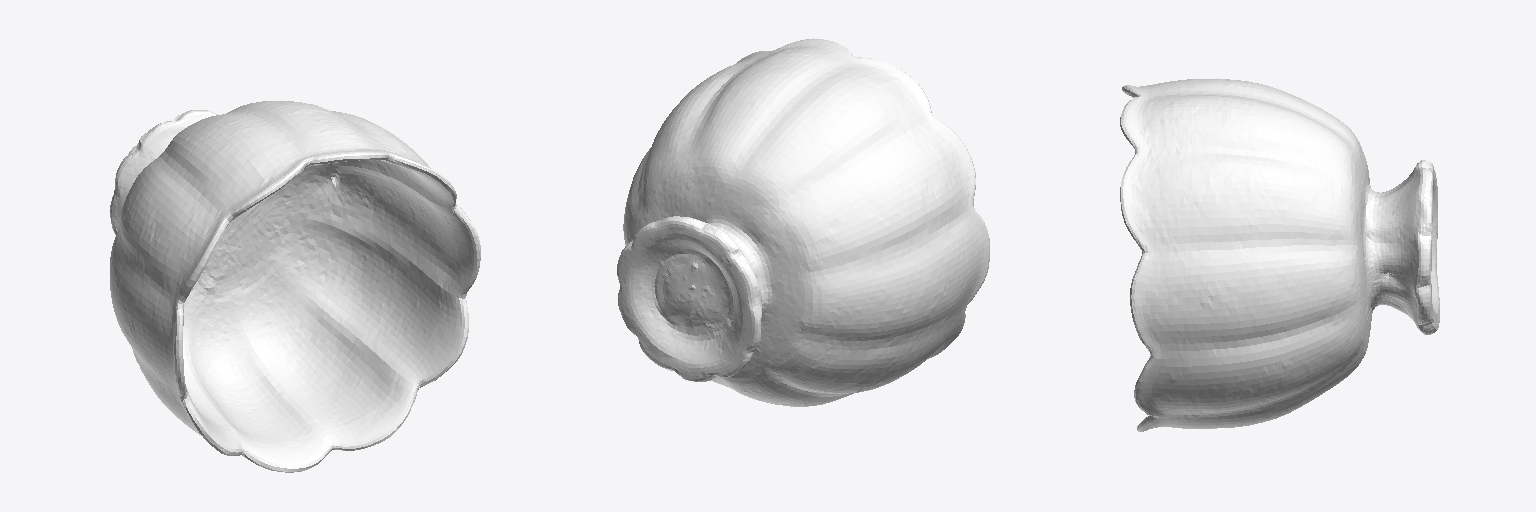
Rendered from ssu015485-002-30000.obj.
The picture shows the model from 3 angles: view 1: azimuth 30°, elevation 25°; view 2: azimuth 150°, elevation 25°; view 3: azimuth 270°, elevation 25°; orthographic projection.
Visible parts, largest first — view 1: ssu015485-002-30000; view 2: ssu015485-002-30000; view 3: ssu015485-002-30000.
Part boxes in pixels (x1,y1,x2,y2): ssu015485-002-30000: (110, 101, 480, 472); ssu015485-002-30000: (617, 38, 989, 406); ssu015485-002-30000: (1120, 78, 1439, 431).
Size of the model in its own units: 74.36 by 74.93 by 67.79.